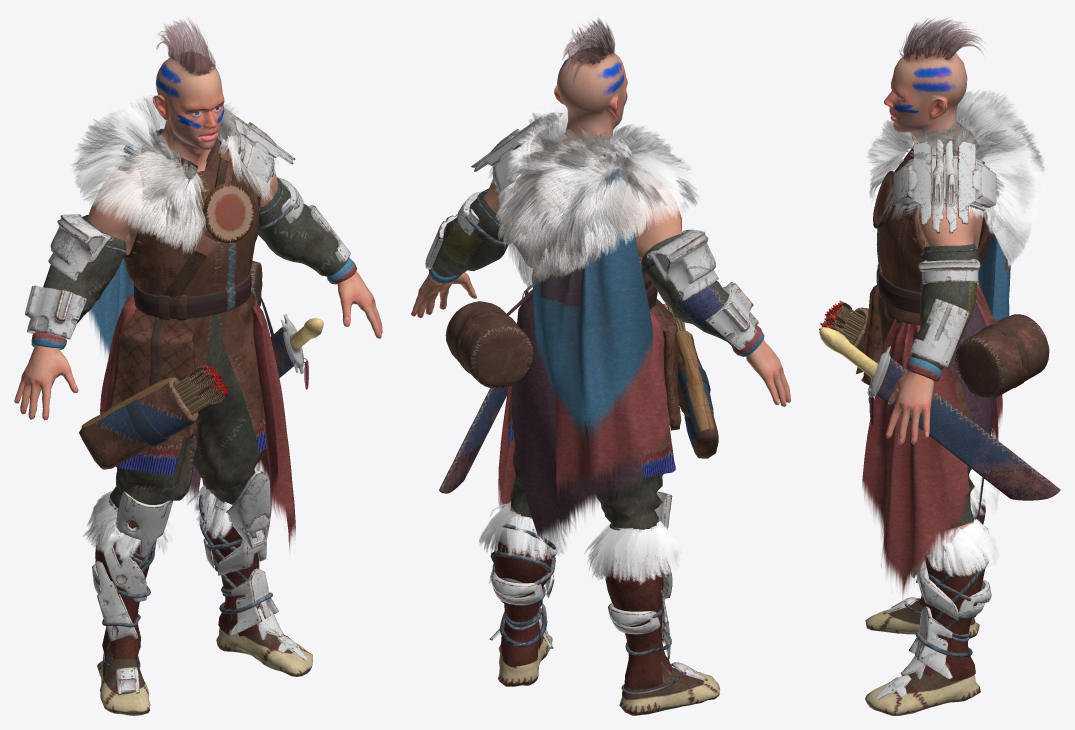
Rendered from npc.glb.
The picture shows the model from 3 angles, left to right: view 1: azimuth 30°, elevation 25°; view 2: azimuth 150°, elevation 25°; view 3: azimuth 270°, elevation 25°; orthographic projection. The views are drawn at different scales.
Parts seen in each view (by area): view 1: Clothes_1_low, TopFur, Body_low, Clothes_2_low, Clothes_6_low, Clothes_14_low, Clothes_5_low, Accessories_23_low, Accessories_27_low, LegFur, Clothes_13_low, Clothes_16_low (+19 smaller); view 2: Clothes_6_low, TopFur, Body_low, Clothes_5_low, Clothes_1_low, Clothes_13_low, LegFur, Clothes_14_low, Accessories_24_low, Clothes_2_low, Accessories_20_low, Accessories_1_low (+10 smaller); view 3: Clothes_5_low, TopFur, Body_low, Accessories_32_low, Clothes_6_low, Accessories_1_low, Accessories_24_low, Clothes_1_low, LegFur, Clothes_13_low, Clothes_14_low, Hair (+15 smaller).
Part boxes in pixels (x1,y1,x2,y2): Clothes_1_low: (116,132,266,474); TopFur: (71,94,279,253); Body_low: (14,52,382,420); Clothes_2_low: (110,314,261,523); Clothes_6_low: (88,128,312,715); Clothes_14_low: (37,179,347,332); Clothes_5_low: (100,294,295,550); Accessories_23_low: (111,308,197,437); Accessories_27_low: (79,377,198,469); LegFur: (83,485,232,559); Clothes_13_low: (95,505,259,659); Clothes_16_low: (162,129,253,311); Clothes_6_low: (498,156,720,715); TopFur: (488,102,698,287); Body_low: (411,47,790,518); Clothes_5_low: (498,312,670,509); Clothes_1_low: (507,136,675,477); Clothes_13_low: (494,520,671,689); LegFur: (479,501,681,584); Clothes_14_low: (432,188,737,349); Accessories_24_low: (445,289,533,388); Clothes_2_low: (510,431,663,530); Accessories_20_low: (646,229,718,301); Accessories_1_low: (471,112,562,191); Clothes_5_low: (862,284,1002,597); TopFur: (867,89,1044,268); Body_low: (880,46,983,530); Accessories_32_low: (819,327,1060,500); Clothes_6_low: (865,231,1010,715); Accessories_1_low: (893,139,996,233); Accessories_24_low: (955,294,1049,399); Clothes_1_low: (876,122,993,418); LegFur: (927,469,1000,576); Clothes_13_low: (920,497,985,681); Clothes_14_low: (911,244,979,370); Hair: (899,17,984,61).
Size of the model in its own units: 1.09 by 1.89 by 0.6367.
8 materials, 7 textured.
